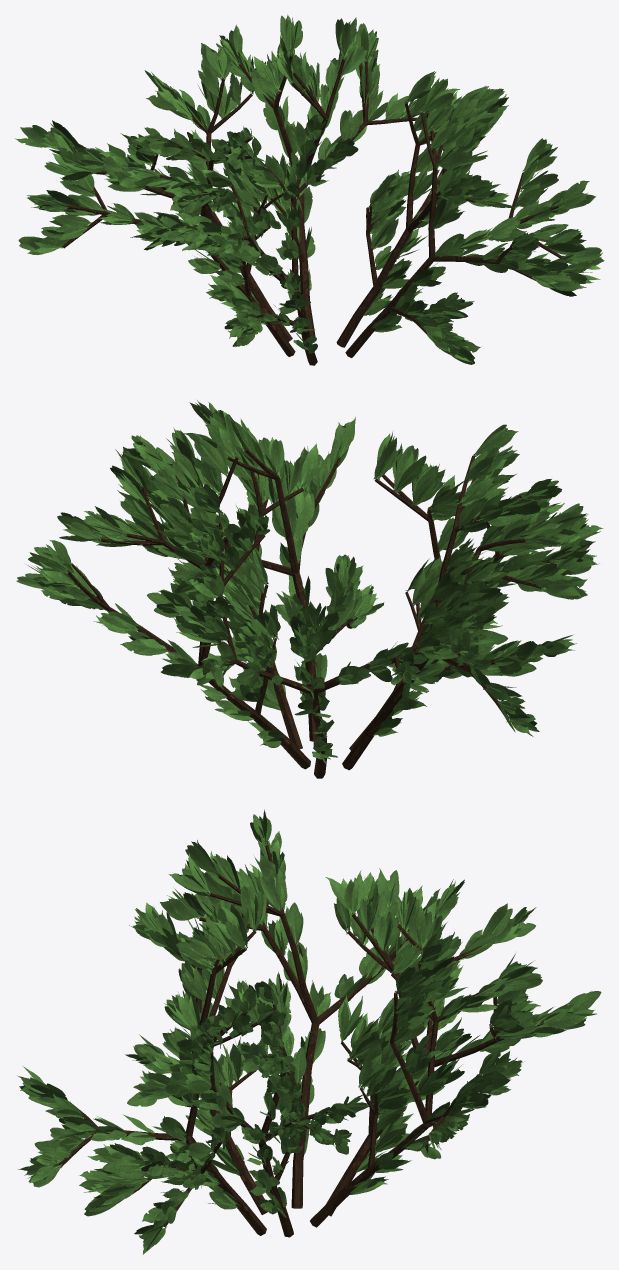
Rendered from sumac_scrub_v01.fbx.
The picture shows the model from 3 angles, top to bottom: view 1: azimuth 30°, elevation 25°; view 2: azimuth 150°, elevation 25°; view 3: azimuth 270°, elevation 25°; orthographic projection. The views are drawn at different scales.
Visible parts, largest first — view 1: sumac_scrub_v01; view 2: sumac_scrub_v01; view 3: sumac_scrub_v01.
Boxes of the visible parts, box(x1,y1,x2,y2) form: sumac_scrub_v01: box(15, 14, 604, 365); sumac_scrub_v01: box(16, 400, 603, 778); sumac_scrub_v01: box(18, 809, 601, 1254).
Bounding box in the file's own units: 231 × 133 × 221.
2 materials, 2 textured.
